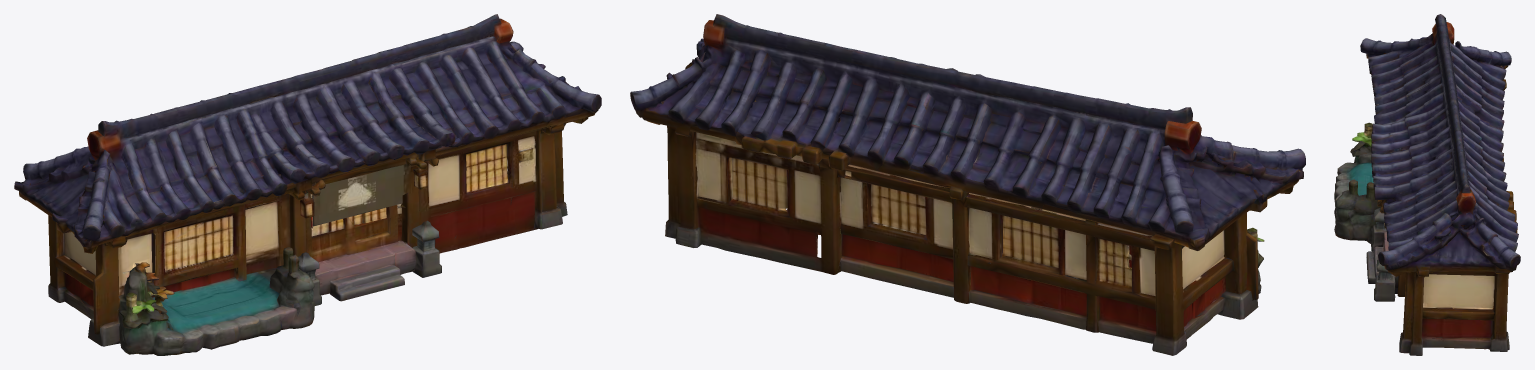
The picture shows the model from 3 angles, left to right: view 1: azimuth 30°, elevation 25°; view 2: azimuth 150°, elevation 25°; view 3: azimuth 270°, elevation 25°; orthographic projection. The views are drawn at different scales.
Parts seen in each view (by area): view 1: compact__onsen_1__native_mobile; view 2: compact__onsen_1__native_mobile; view 3: compact__onsen_1__native_mobile.
Part boxes in pixels (<box>): compact__onsen_1__native_mobile: <box>14,14,601,355</box>; compact__onsen_1__native_mobile: <box>630,14,1305,355</box>; compact__onsen_1__native_mobile: <box>1334,14,1520,355</box>.
Bounding box in the file's own units: 1 × 0.3577 × 0.3653.
1 material, 1 textured.
